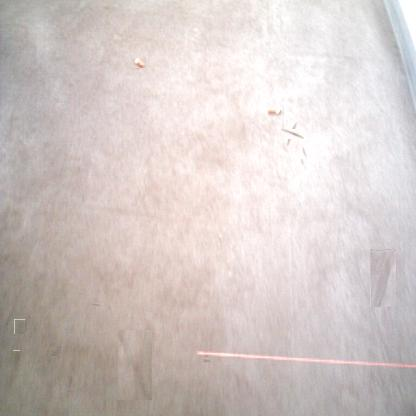dirty: (134, 56, 146, 68), (268, 108, 282, 116)
mark: (118, 330, 152, 400), (370, 250, 396, 308), (283, 126, 301, 142), (13, 320, 26, 333), (300, 147, 308, 168), (50, 346, 61, 356), (12, 350, 20, 361), (67, 376, 73, 390), (91, 300, 99, 308), (204, 355, 211, 363)
